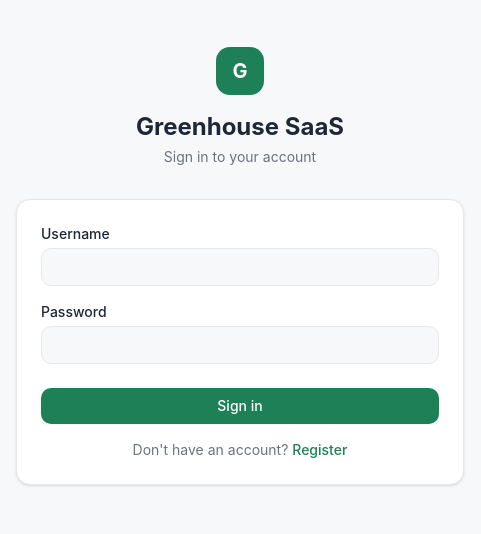
it: Login page › shows server error on login failure
This screenshot has width=481, height=534.
Step 1. Type "bad" into the field labelled "Username" → (240, 267), box [41,248,439,286]
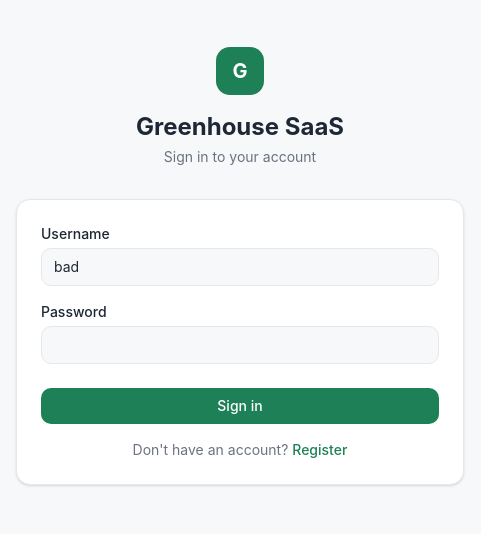
Step 2. Type "bad" into the password field labelled "Password" → (240, 345), box [41,326,439,364]
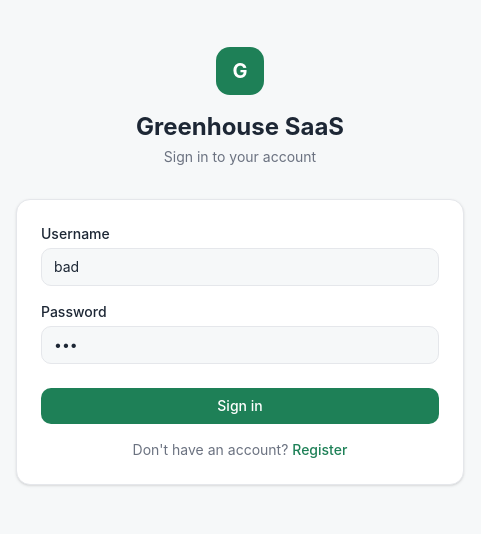
Step 3. Click the button "Sign in" → (240, 406), box [41,388,439,424]
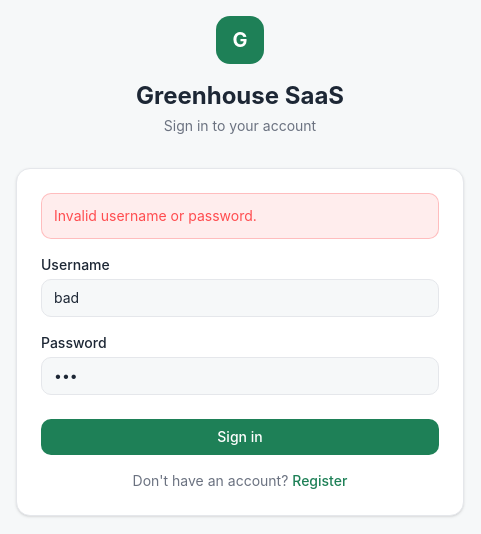
Now the text "Invalid username or password." is shown, box [54,207,257,224]
